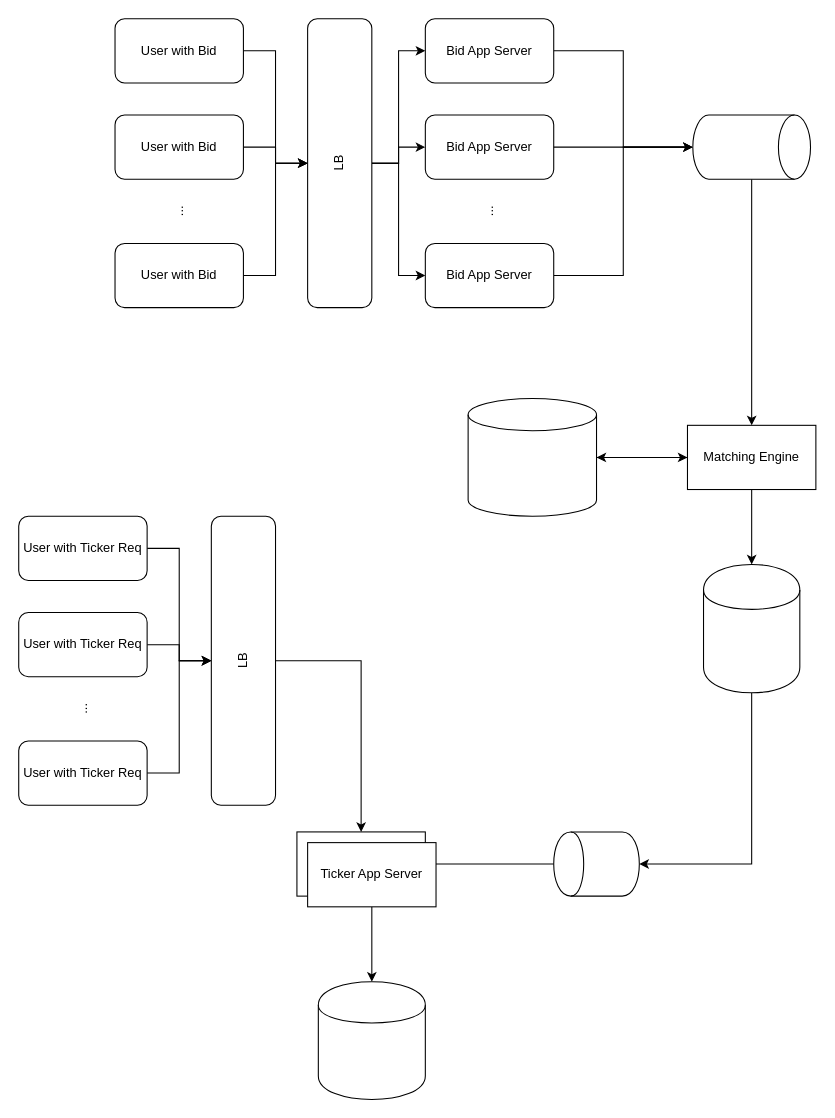
Some shapes in this 835 by 1118 pixel diagram are drawn without their labels. The centre of each missing label's shape, as x and y in pixels:
"Bid in-memory DB" belongs at (x=532, y=457).
"Distributed MQ" belongs at (x=751, y=146).
"Stock DB" belongs at (x=751, y=628).
"Ticker MQ" belongs at (x=596, y=863).
"Ticker prices DB" belongs at (x=371, y=1040).
